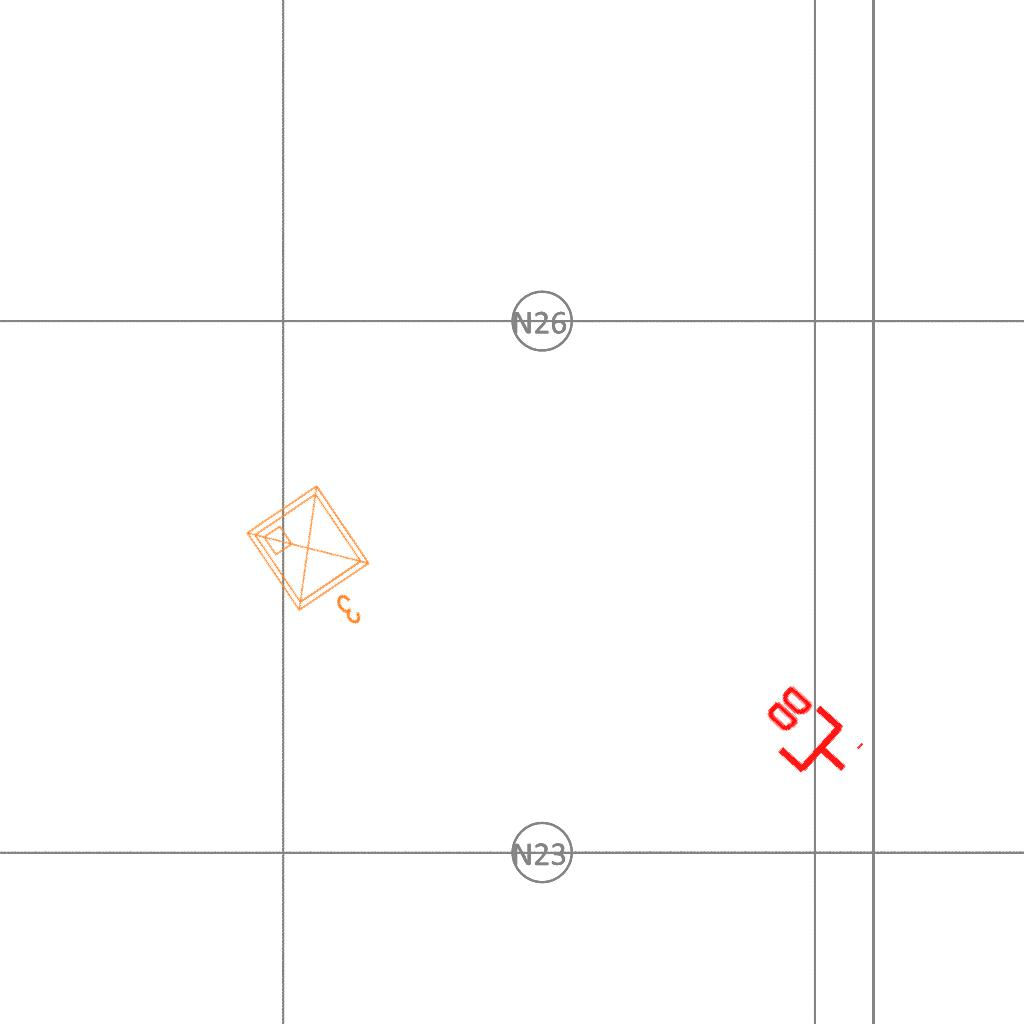Datenanschluss_zweifach: (745, 677, 868, 798)
Einbaudownlights_LED_Konferenzraeume: (235, 472, 407, 656)
